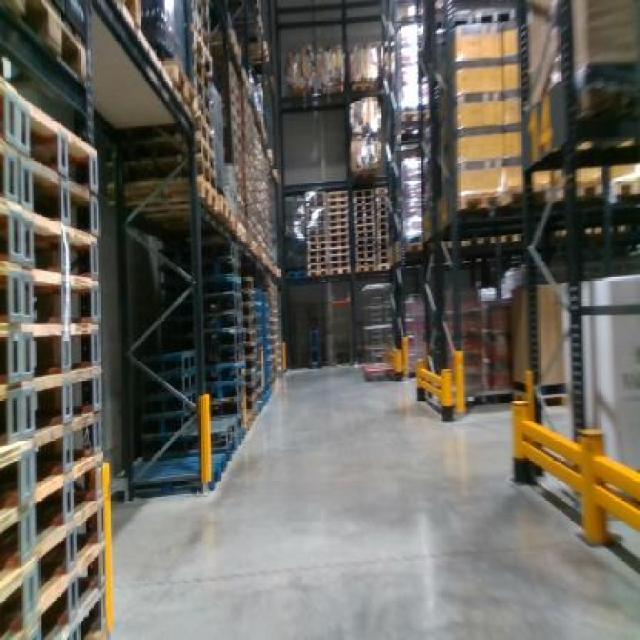ground: (112, 361, 638, 638)
pallet: (121, 409, 250, 506), (204, 242, 248, 412), (307, 191, 400, 271)
